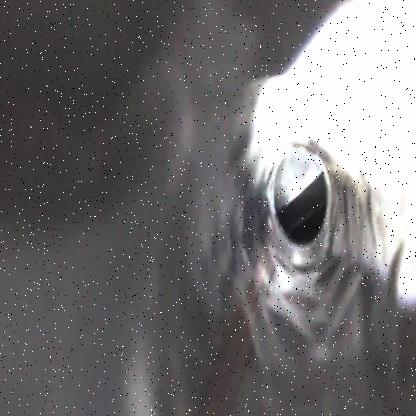Crack: (225, 69, 374, 324)
